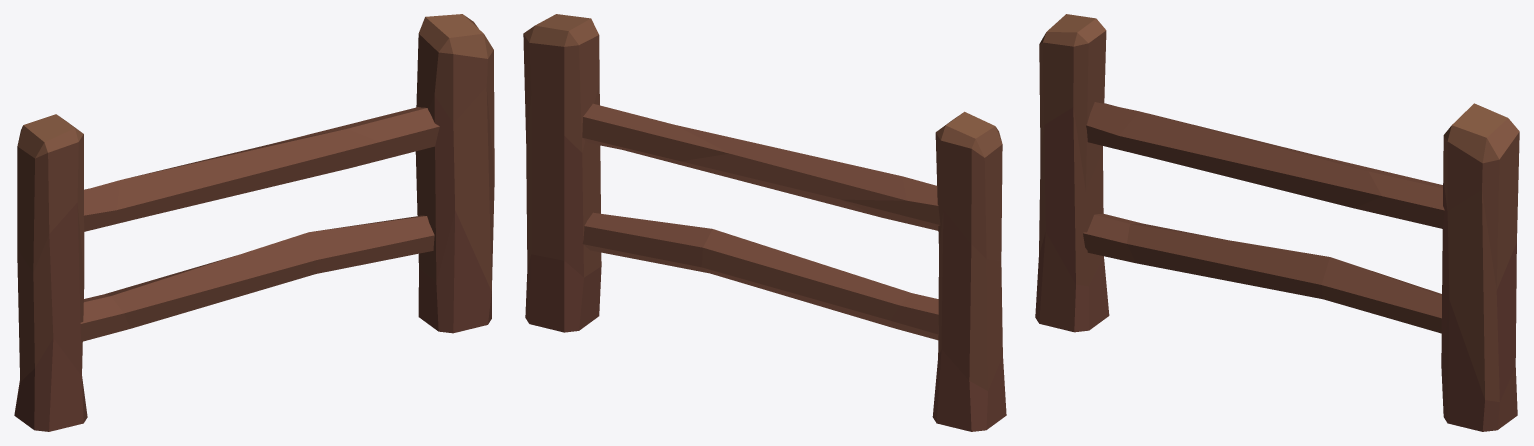
File: fence_log_whole.fbx
3 renders of one model, left to right at view 1: azimuth 30°, elevation 25°; view 2: azimuth 150°, elevation 25°; view 3: azimuth 330°, elevation 25°, orthographic.
Visible parts, largest first — view 1: fence_log_whole; view 2: fence_log_whole; view 3: fence_log_whole.
Part boxes in pixels (x1=…): fence_log_whole: x1=14, y1=14, x2=494, y2=431; fence_log_whole: x1=523, y1=14, x2=1006, y2=431; fence_log_whole: x1=1035, y1=14, x2=1519, y2=431.
Bounding box in the file's own units: 114 × 70.15 × 13.47.
